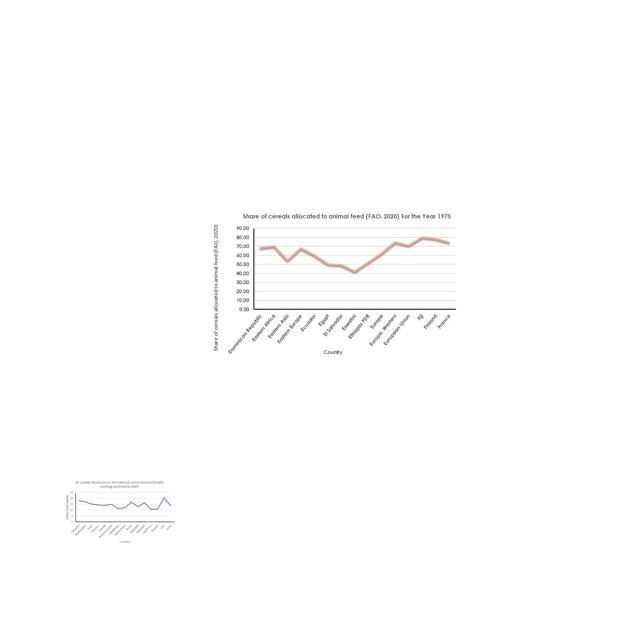Graph: (209, 211, 461, 360), (64, 479, 176, 545)
